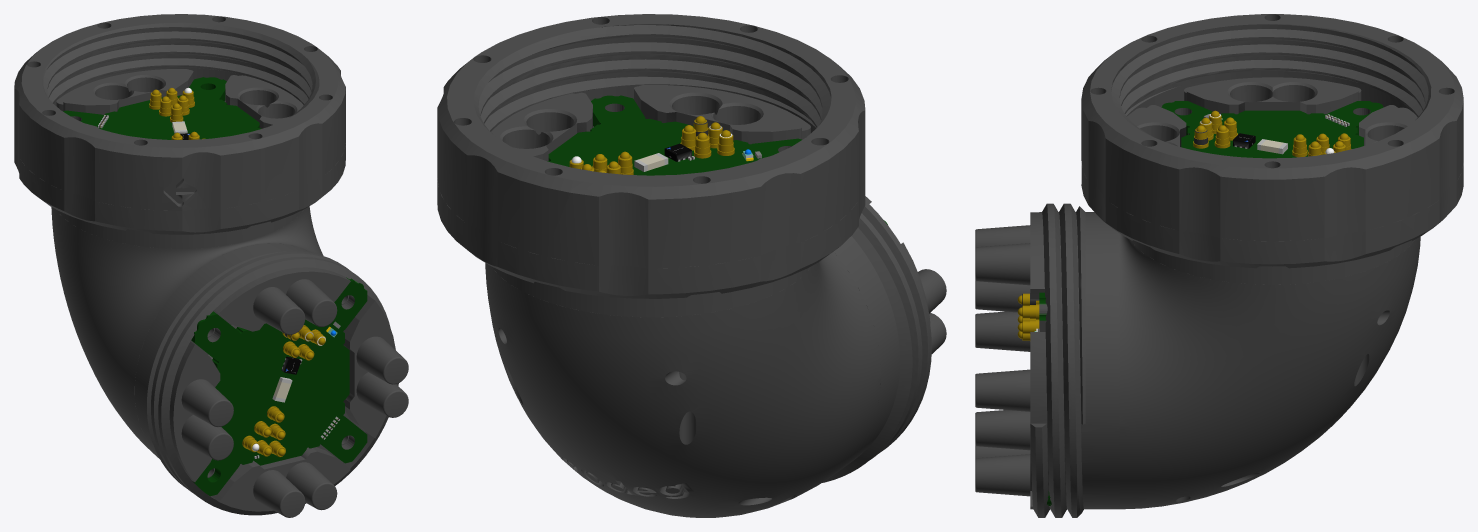
3 views of the same model, side by side, from view 1: azimuth 30°, elevation 25°; view 2: azimuth 150°, elevation 25°; view 3: azimuth 270°, elevation 25° (orthographic). The views are drawn at different scales.
Parts seen in each view (by area): view 1: node64, node66, node0, node4, node63, node65, node35, node17, node48; view 2: node64, node0, node63, node66, node65, node35, node48; view 3: node64, node0, node66, node63, node65, node35, node48, node17.
Boxes of the visible parts, box(x1,y1,x2,y2) form: node64: box(14, 14, 345, 210); node66: box(135, 243, 408, 517); node0: box(51, 206, 323, 458); node4: box(191, 277, 367, 496); node63: box(56, 69, 303, 248); node65: box(14, 140, 345, 234); node35: box(63, 77, 261, 139); node17: box(242, 325, 325, 457); node48: box(149, 87, 205, 139); node64: box(437, 14, 865, 268); node0: box(485, 251, 881, 517); node63: box(491, 85, 810, 317); node66: box(822, 196, 946, 482); node65: box(437, 178, 865, 298); node35: box(547, 95, 801, 175); node48: box(569, 116, 734, 174); node64: box(1081, 14, 1463, 241); node0: box(1119, 233, 1420, 509); node66: box(975, 203, 1119, 517); node63: box(1127, 77, 1417, 284); node65: box(1081, 163, 1463, 268); node35: box(1161, 101, 1383, 158); node48: box(1193, 110, 1351, 157); node17: box(1017, 293, 1039, 340).
Size of the model in its own units: 0.045 by 0.0535 by 0.0575.
